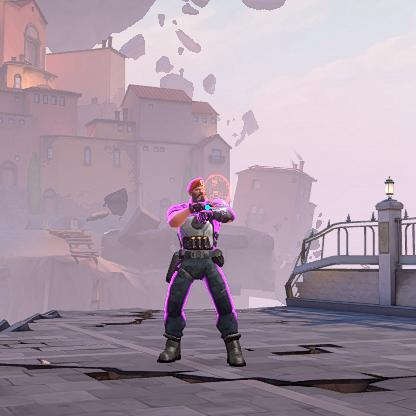enemyBody: (185, 211, 217, 249)
enemyHead: (190, 176, 214, 208)
